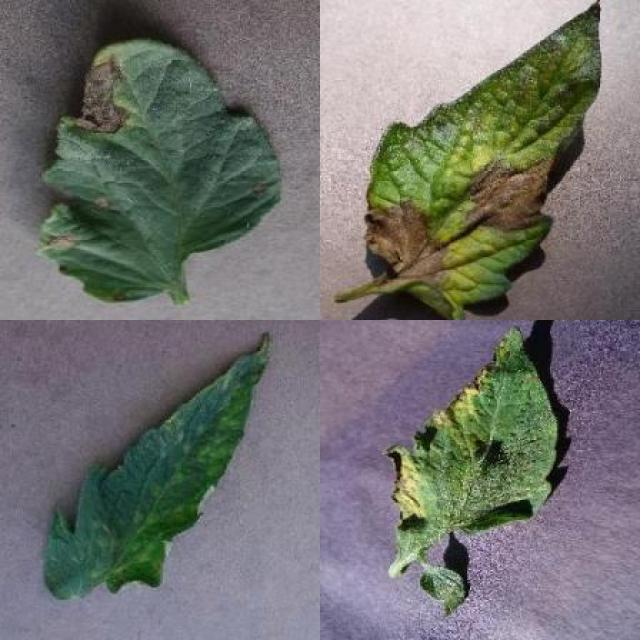Early Blight: (44, 39, 285, 304)
Late Blight: (364, 0, 602, 320)
Leaf Mold: (43, 332, 270, 598)
Septoria: (384, 327, 560, 540)
